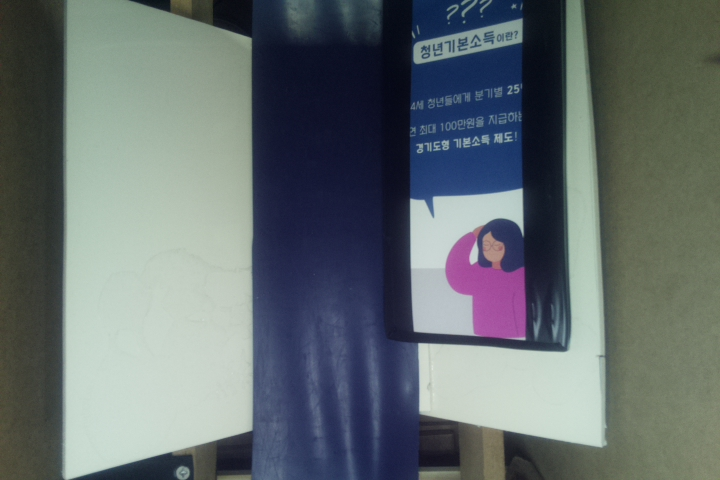book: (385, 1, 572, 351)
